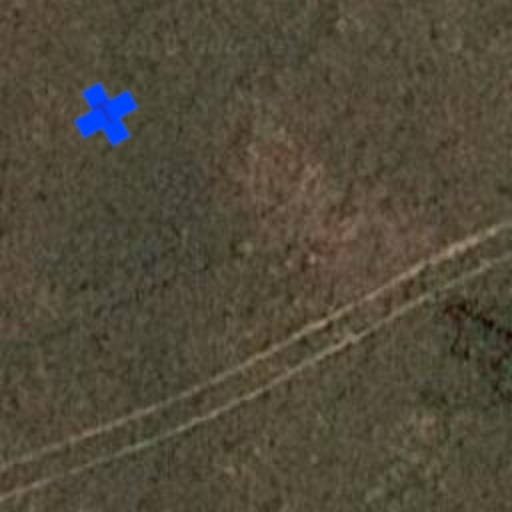cross: (62, 70, 150, 158)
